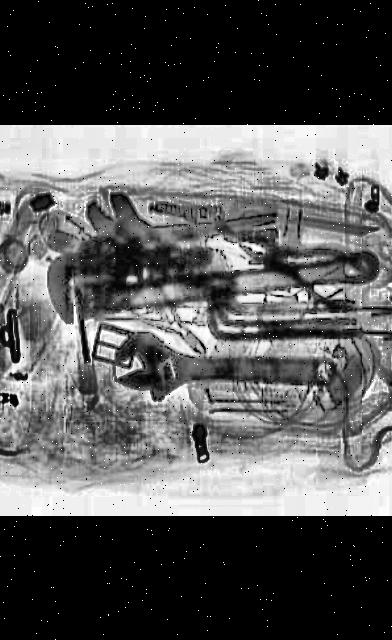Pliers: (220, 216, 390, 316)
Wrench: (114, 332, 340, 406)
